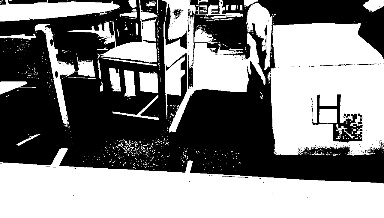H: (312, 92, 343, 123)
